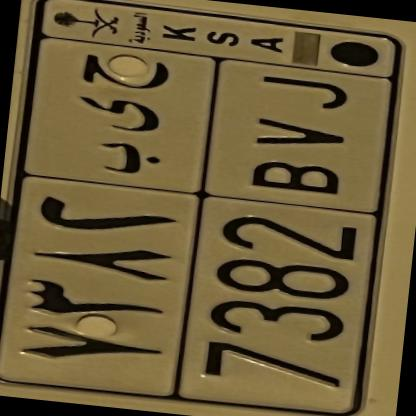english: (157, 53, 402, 416)
